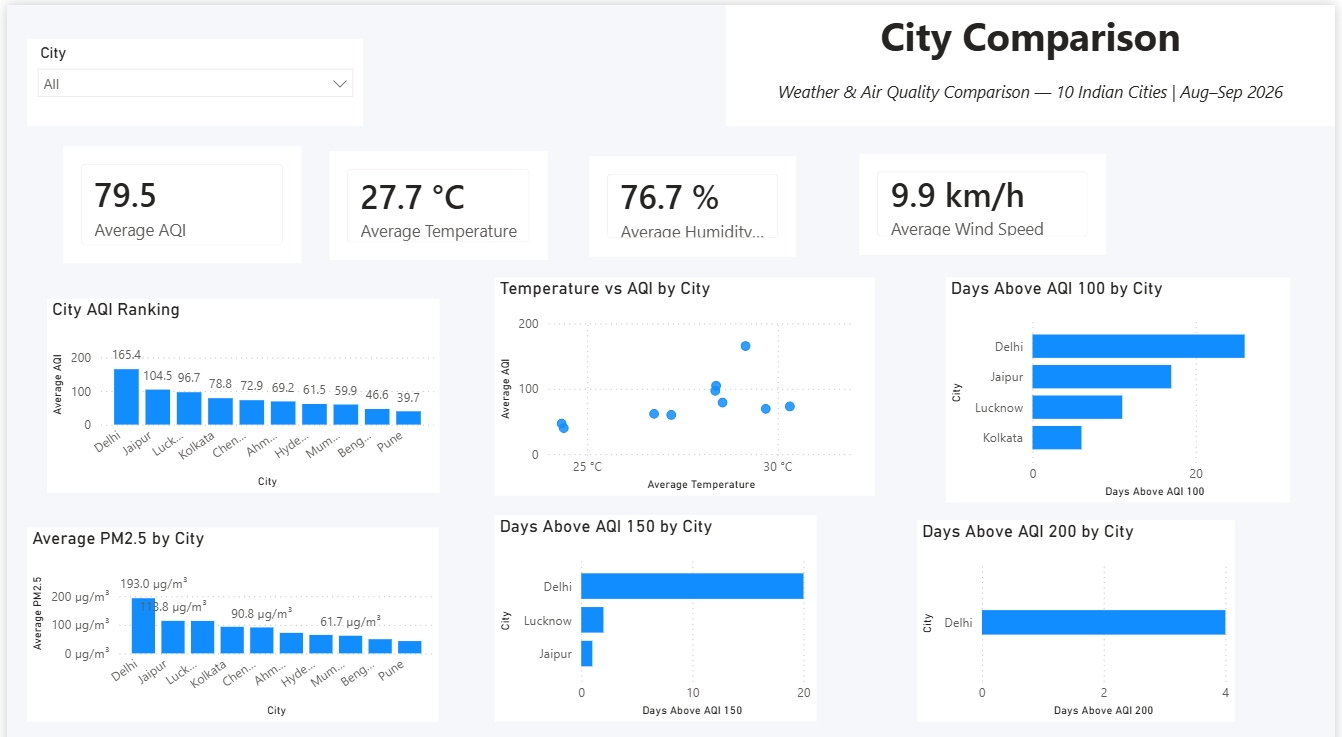

This screenshot's page, from the dashboard's own definition file:
{"tool":"powerbi","page":{"name":"City Comparison","canvas":[1280,720],"ordinal":2},"visuals":[{"type":"textbox","box":[692.5,0,587.5,117],"z":0},{"type":"cardVisual","fields":{"Data":["air_quality.Average AQI"]},"box":[54.3,136.3,229.9,112.5],"z":1000},{"type":"cardVisual","fields":{"Data":["weather_data.Average Temperature"]},"box":[311.3,141.2,210.3,105.2],"z":2000},{"type":"cardVisual","fields":{"Data":["weather_data.Average Humidity Display"]},"box":[561,146,199.3,96.6],"z":3000},{"type":"cardVisual","fields":{"Data":["weather_data.Average Wind Speed"]},"box":[821.6,143.6,237.2,97.8],"z":4000},{"type":"slicer","fields":{"Values":["Cities.City"]},"box":[19.6,33,324.1,84.4],"z":5000},{"type":"columnChart","title":"City AQI Ranking","fields":{"Category":["Cities.City"],"Y":["air_quality.Average AQI"]},"box":[38.2,282.6,378.1,187.1],"z":6000},{"type":"scatterChart","title":"Temperature vs AQI by City","fields":{"Category":["Cities.City"],"X":["weather_data.Average Temperature"],"Y":["air_quality.Average AQI"]},"box":[469.3,271.4,366.6,210],"z":7000},{"type":"columnChart","fields":{"Category":["Cities.City"],"Y":["air_quality.Average PM2.5"]},"box":[19.1,504.1,397.2,187.1],"z":8000},{"type":"clusteredBarChart","fields":{"Category":["Cities.City"],"Y":["air_quality.Days Above AQI 100"]},"box":[907.2,271.4,331.8,217.2],"z":8001},{"type":"clusteredBarChart","fields":{"Category":["Cities.City"],"Y":["air_quality.Days Above AQI 150"]},"box":[469.3,504.3,310.1,199.1],"z":8002},{"type":"clusteredBarChart","fields":{"Category":["Cities.City"],"Y":["air_quality.Days Above AQI 200"]},"box":[875.9,509.1,306.4,194.2],"z":8003}]}

Visuals, with their boxes in screenshot pixels (x1, y1, x2, y2), scaled from the page's 1280x720 canvas onto the 1342x737 screenshot:
textbox: select_region(726, 0, 1341, 120)
cardVisual - air_quality.Average AQI: select_region(57, 140, 298, 255)
cardVisual - weather_data.Average Temperature: select_region(326, 145, 547, 252)
cardVisual - weather_data.Average Humidity Display: select_region(588, 149, 797, 248)
cardVisual - weather_data.Average Wind Speed: select_region(861, 147, 1110, 247)
slicer - Cities.City: select_region(21, 34, 360, 120)
"City AQI Ranking" columnChart: select_region(40, 289, 436, 481)
"Temperature vs AQI by City" scatterChart: select_region(492, 278, 876, 493)
columnChart - Cities.City x air_quality.Average PM2.5: select_region(20, 516, 436, 708)
clusteredBarChart - Cities.City x air_quality.Days Above AQI 100: select_region(951, 278, 1299, 500)
clusteredBarChart - Cities.City x air_quality.Days Above AQI 150: select_region(492, 516, 817, 720)
clusteredBarChart - Cities.City x air_quality.Days Above AQI 200: select_region(918, 521, 1240, 720)
